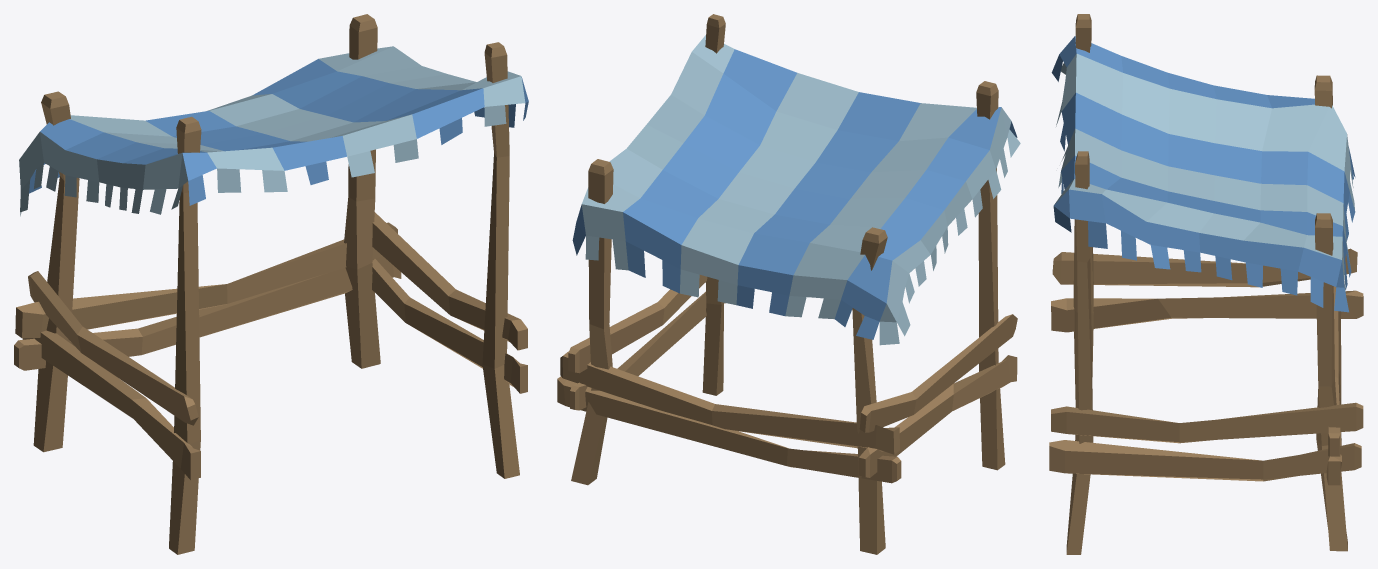
The model's file is balloonCover.glb.
The picture shows the model from 3 angles, left to right: view 1: azimuth 30°, elevation 25°; view 2: azimuth 150°, elevation 25°; view 3: azimuth 270°, elevation 25°; orthographic projection. The views are drawn at different scales.
Visible parts, largest first — view 1: TwP_Tent_02; view 2: TwP_Tent_02; view 3: TwP_Tent_02.
Part boxes in pixels (x1=…): TwP_Tent_02: x1=14, y1=14, x2=528, y2=554; TwP_Tent_02: x1=557, y1=14, x2=1020, y2=554; TwP_Tent_02: x1=1049, y1=14, x2=1363, y2=554.
Size of the model in its own units: 2.76 by 2.95 by 2.13.
Materials: 1 (1 with a texture image).
